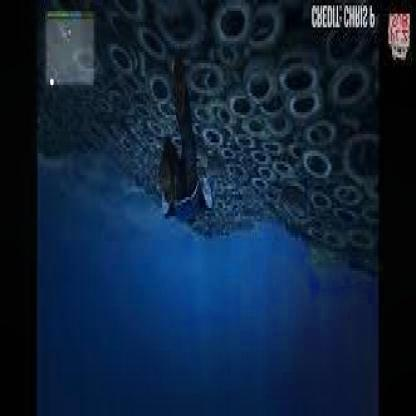tire: (269, 36, 336, 112), (300, 104, 348, 180), (181, 44, 230, 110), (224, 58, 275, 120), (290, 85, 337, 148), (106, 33, 154, 82), (308, 142, 338, 206), (209, 3, 246, 54), (308, 181, 338, 238), (156, 63, 180, 118)
